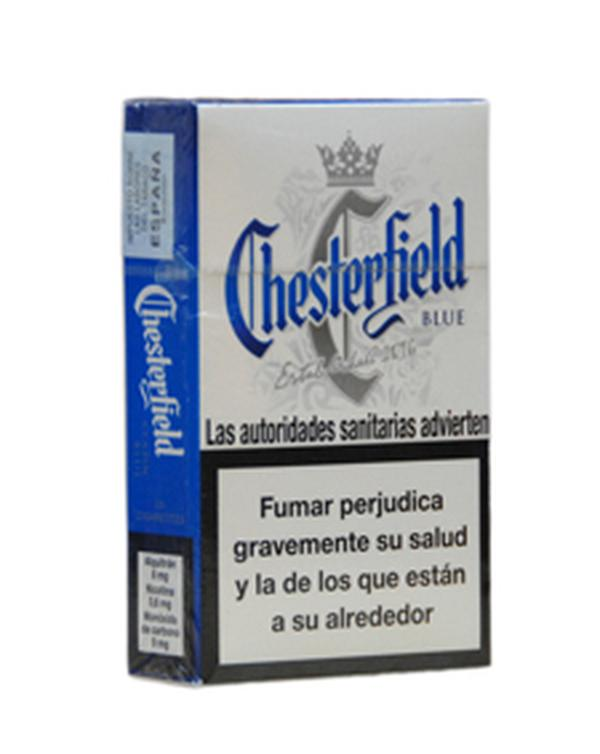chesterfield_blue: (196, 103, 490, 672)
